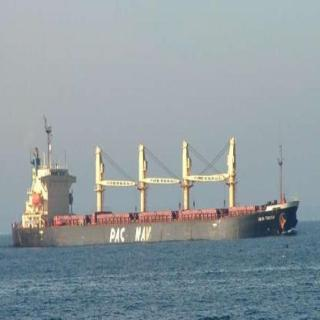Bulk Carrier: (4, 167, 307, 248)
